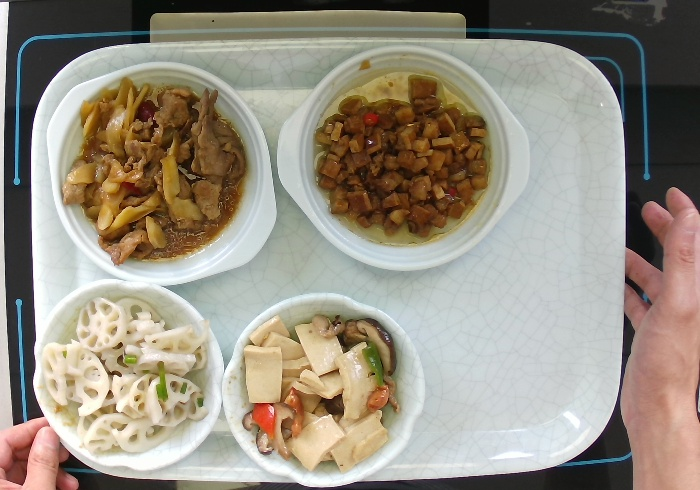JYsf-Ao_Yuan_Wan: (219, 289, 430, 490), (29, 272, 227, 474)
JYsf-Shuang_Er_Pan: (273, 39, 536, 275), (42, 57, 281, 289)
